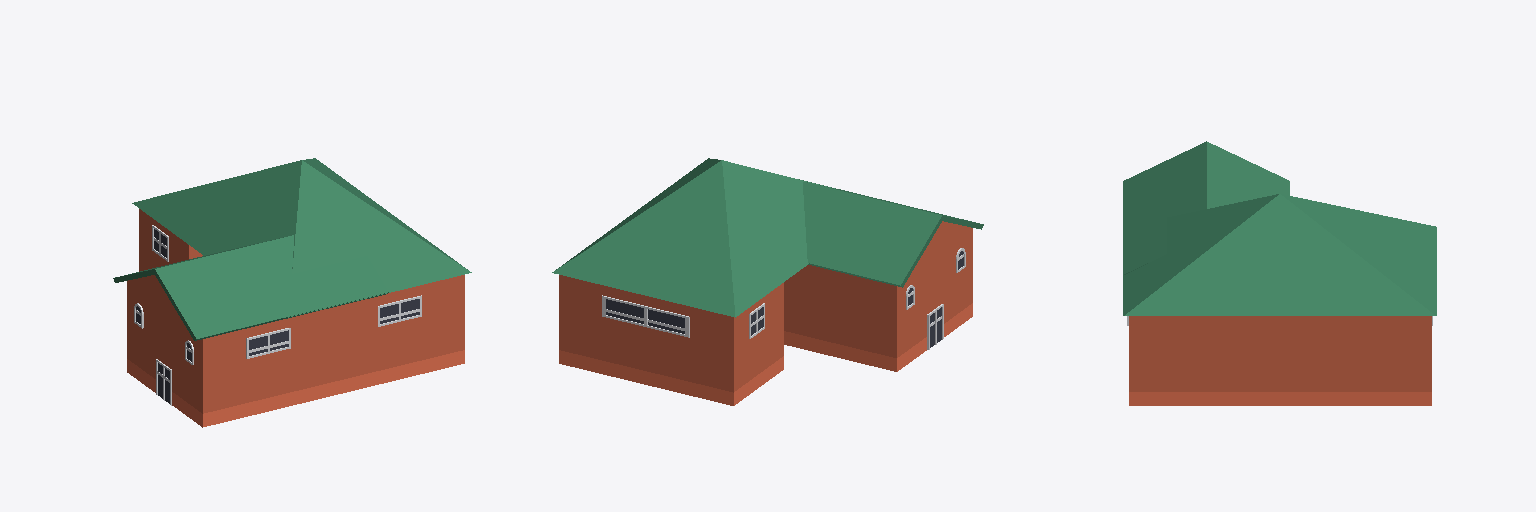
Rendered from SuburbanHouse1.obj.
3 renders of one model, left to right at view 1: azimuth 30°, elevation 25°; view 2: azimuth 150°, elevation 25°; view 3: azimuth 270°, elevation 25°, orthographic.
Parts seen in each view (by area): view 1: roof_point_38, block_36, roof_39, block_11, block_18, window_width_48, window_width_49, door_wide_40; view 2: roof_point_38, block_18, block_36, roof_39, window_width_47, door_wide_40; view 3: roof_point_38, block_11, roof_39, block_18.
Part boxes in pixels (x1,y1,x2,y2): roof_point_38: (132, 158, 471, 317); block_36: (127, 281, 333, 427); roof_39: (113, 235, 388, 340); block_11: (334, 275, 464, 394); block_18: (139, 209, 202, 271); window_width_48: (246, 328, 290, 358); window_width_49: (378, 295, 421, 326); door_wide_40: (156, 359, 171, 405); roof_point_38: (552, 158, 834, 317); block_18: (559, 275, 783, 405); block_36: (784, 227, 972, 371); roof_39: (799, 179, 983, 287); window_width_47: (602, 295, 689, 337); door_wide_40: (927, 304, 943, 349); roof_point_38: (1123, 194, 1436, 315); block_11: (1129, 316, 1330, 405); roof_39: (1123, 141, 1289, 274); block_18: (1331, 316, 1431, 405).
Bounding box in the file's own units: 6.3 × 3.7 × 6.2.